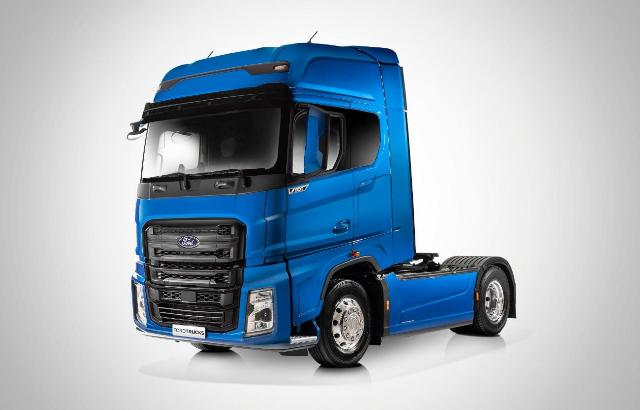truck: (115, 40, 536, 356)
